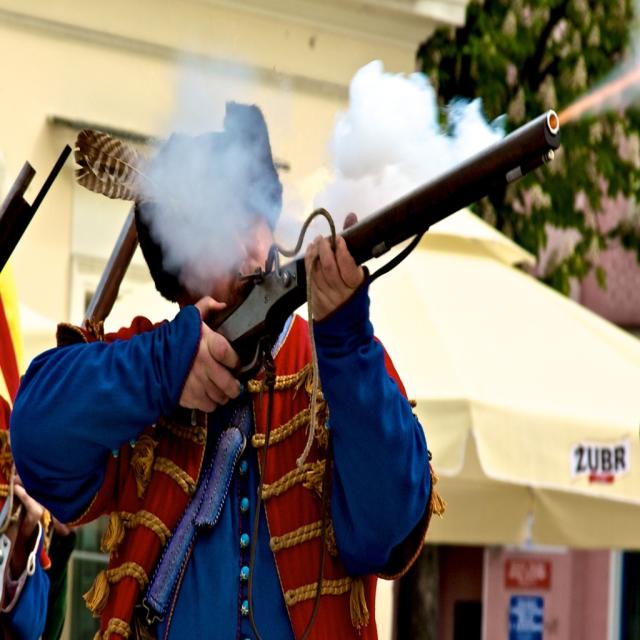Weapon: (108, 150, 622, 407)
